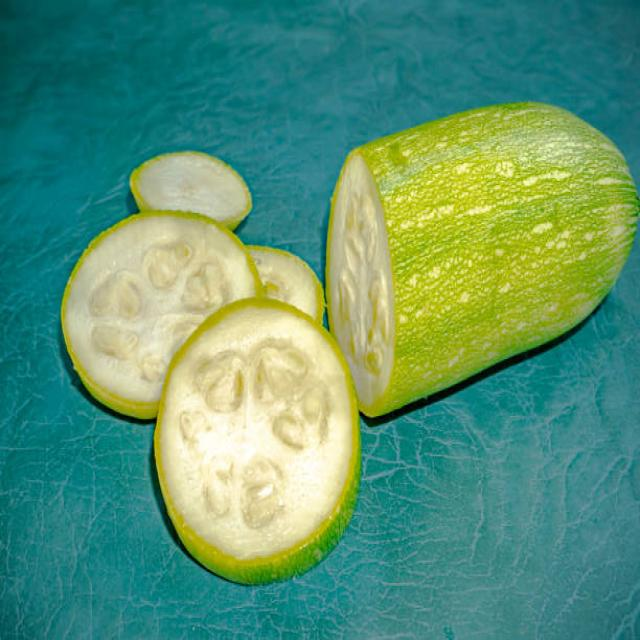cucumber: (323, 102, 640, 418)
